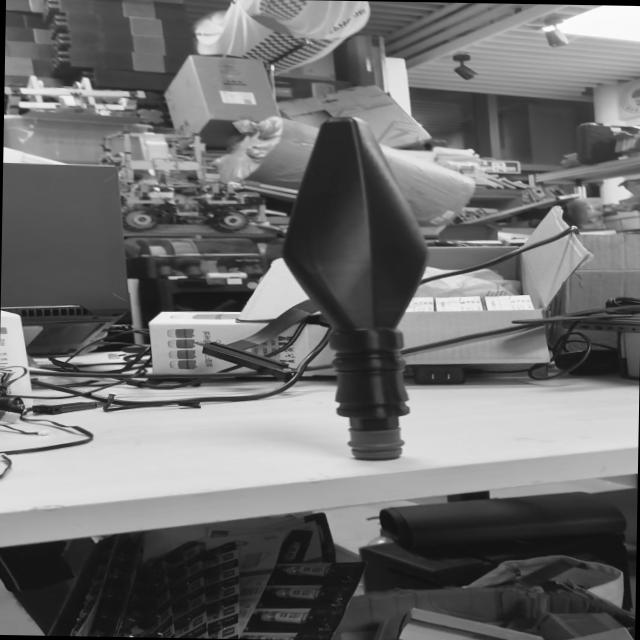base: (334, 425, 408, 465)
